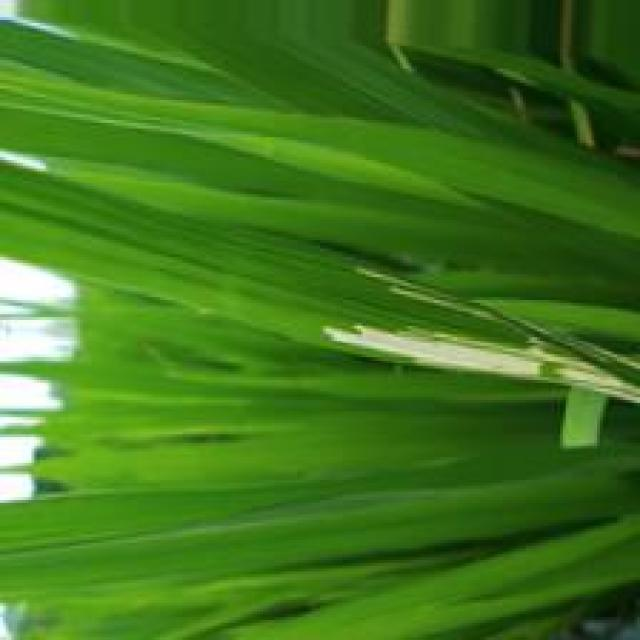Rice_Hispa: (322, 325, 640, 410)
